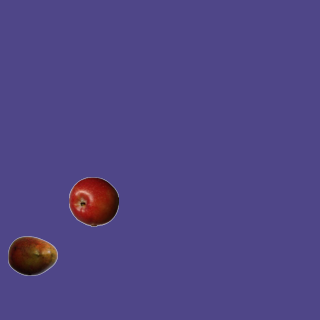Apple Braeburn: (68, 176, 118, 226)
Mango Red: (7, 230, 57, 280)
